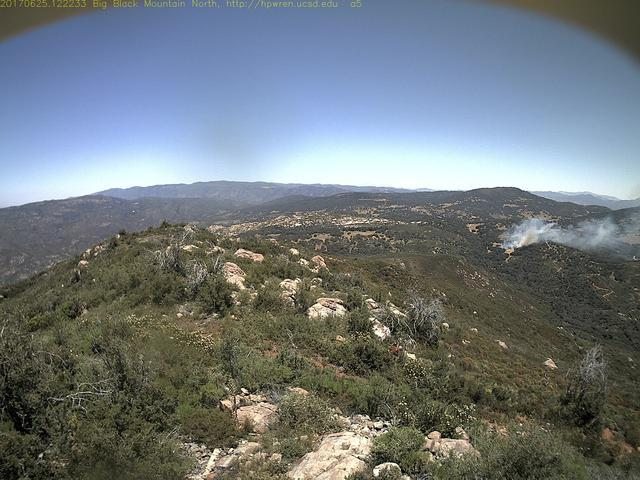smoke: (498, 204, 638, 262)
